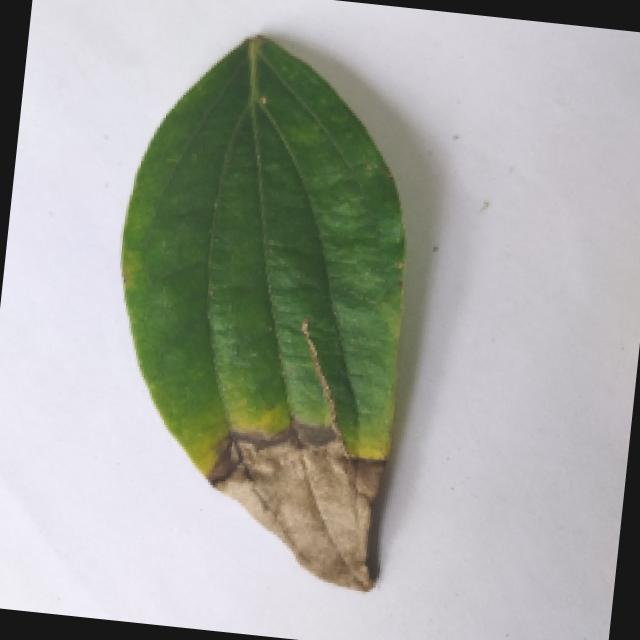footrot: (64, 20, 458, 598)
